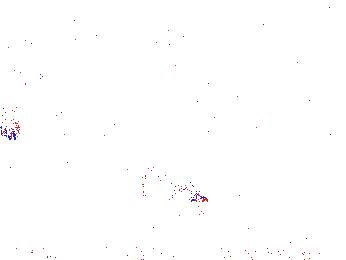flame jellyfish: (1, 45, 46, 142), (269, 173, 346, 228), (141, 160, 208, 208)
